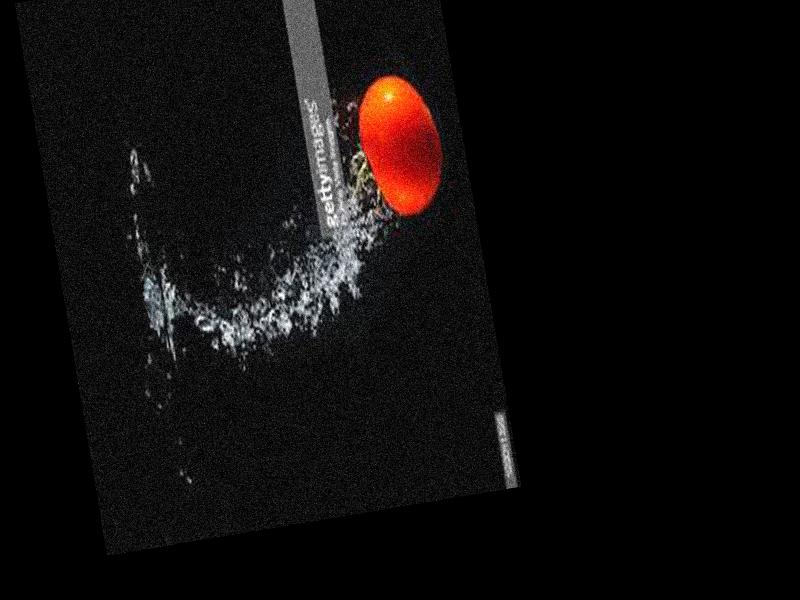Tomato: (350, 70, 448, 222)
